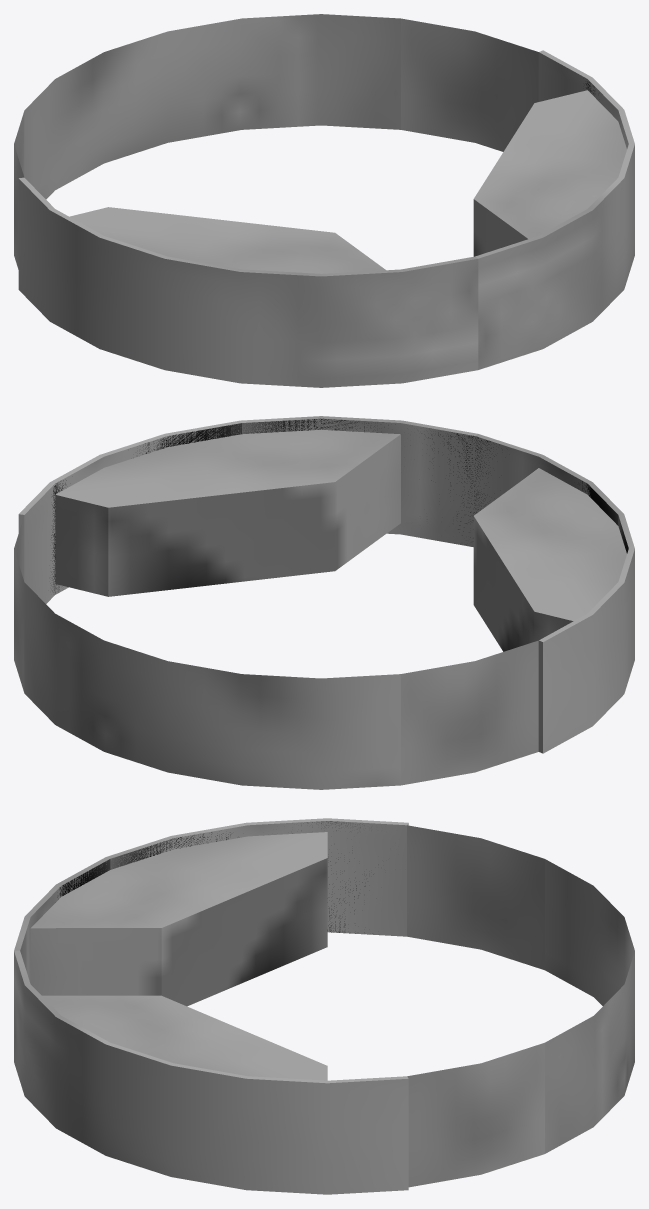
Rendered from leg_bay.fbx.
The picture shows the model from 3 angles, top to bottom: view 1: azimuth 30°, elevation 25°; view 2: azimuth 150°, elevation 25°; view 3: azimuth 270°, elevation 25°; orthographic projection.
Visible parts, largest first — view 1: mesh, fairing; view 2: mesh, fairing; view 3: mesh, fairing.
Boxes of the visible parts, left/top/right/bottom form: mesh: left=14, top=14, right=628, bottom=273; fairing: left=18, top=50, right=634, bottom=387; mesh: left=14, top=418, right=626, bottom=789; fairing: left=18, top=416, right=634, bottom=753; mesh: left=20, top=821, right=634, bottom=1187; fairing: left=14, top=818, right=408, bottom=1194.
Size of what is drawn, in the model's own units: 2.55 by 0.5 by 2.53.
